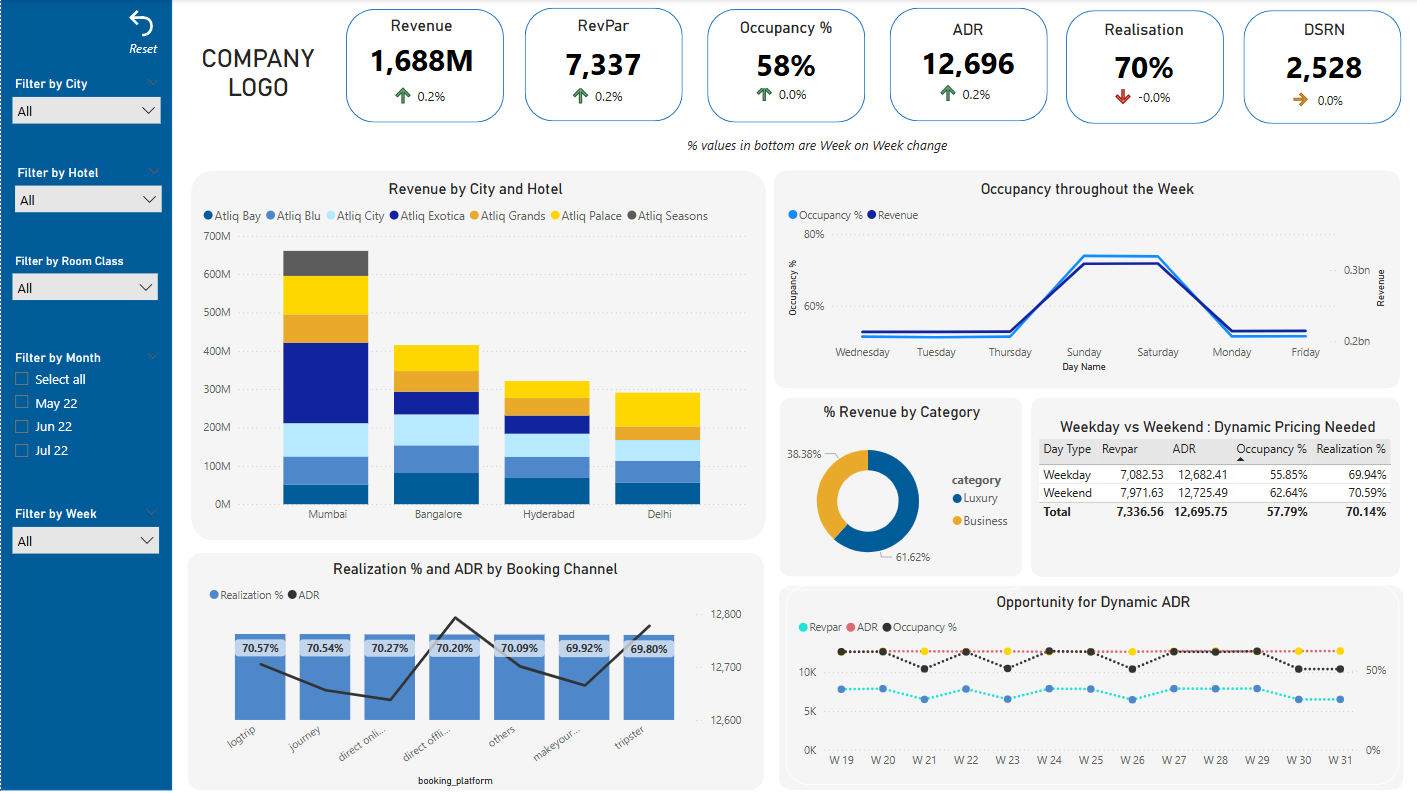

The dashboard page shown, as its layout file describes it:
{"tool":"powerbi","page":{"name":"Page 2","canvas":[1600,900],"ordinal":1},"visuals":[{"type":"tableEx","fields":{"Values":["Measure.DSRN WoW change %"]},"box":[1446,78,88.7,62.7],"z":0},{"type":"tableEx","fields":{"Values":["Measure.Realization WoW change %"]},"box":[1244.4,73.8,104.9,62.3],"z":1000},{"type":"tableEx","fields":{"Values":["Measure.Occupancy WoW change %"]},"box":[838,74,108,74],"z":2000},{"type":"tableEx","fields":{"Values":["Measure.ADR WoW change %"]},"box":[1046.1,68.9,90.2,63.9],"z":3000},{"type":"shape","box":[1161.6,449.8,416,202],"z":4000},{"type":"shape","box":[877.4,449.4,273.6,201.8],"z":5000},{"type":"shape","box":[875.9,660.3,704.7,230.8],"z":6000},{"type":"shape","box":[871.3,192.6,706.2,246.1],"z":7000},{"type":"shape","box":[210,624,650,268],"z":8000},{"type":"shape","box":[214,192.6,648.1,417.3],"z":9000},{"type":"tableEx","fields":{"Values":["Measure.Revpar WoW change %"]},"box":[632.1,72.2,95.1,77],"z":10000},{"type":"tableEx","fields":{"Values":["Measure.ADR WoW change %"]},"box":[432.2,72.2,90.2,63.9],"z":11000},{"type":"card","title":"Revenue","fields":{"Values":["Measure.Revenue"]},"box":[358,20,232,72],"z":12000},{"type":"card","title":"RevPar","fields":{"Values":["Measure.Revpar"]},"box":[610.1,20.2,137.6,81],"z":13000},{"type":"card","title":"DSRN","fields":{"Values":["Measure.DSRN"]},"box":[1429.5,24.6,123,78.7],"z":14000},{"type":"card","title":"Occupancy %","fields":{"Values":["Measure.Occupancy %"]},"box":[822.5,21.6,124,78.9],"z":15000},{"type":"card","title":"Realisation","fields":{"Values":["Measure.Realization %"]},"box":[1229.1,23.4,119.2,78],"z":16000},{"type":"card","title":"ADR","fields":{"Values":["Measure.ADR"]},"box":[1020.2,23.3,139.3,68.9],"z":17000},{"type":"shape","box":[0,0,193,891.8],"z":18000},{"type":"slicer","fields":{"Values":["dim_hotels lookup.city"]},"box":[3.3,81.3,186.7,66.7],"z":19000},{"type":"slicer","fields":{"Values":["dim_hotels lookup.property_name"]},"box":[5,181.3,185,66.7],"z":20000},{"type":"slicer","fields":{"Values":["dim_rooms lookup.room_class"]},"box":[3.3,283.6,183.6,65.6],"z":21000},{"type":"lineStackedColumnComboChart","title":"Realization % and ADR by Booking Channel","fields":{"Category":["fact_bookings.booking_platform"],"Y":["Measure.Realization %"],"Y2":["Measure.ADR"]},"box":[230,632.5,610,260],"z":22000},{"type":"lineChart","title":"Opportunity for Dynamic ADR","fields":{"Category":["dim_date lookup.mmm yy.Variation.Date Hierarchy.Month","dim_date lookup.week no"],"Y":["Measure.Revpar","Measure.ADR"],"Y2":["Measure.Occupancy %"]},"box":[885,660.3,690.9,224.7],"z":23000},{"type":"tableEx","title":"Weekday vs Weekend : Dynamic Pricing Needed","fields":{"Values":["dim_date lookup.day_type","Measure.Revpar","Measure.ADR","Measure.Occupancy %","Measure.Realization %"]},"box":[1163.3,471.7,415,156.7],"z":24000},{"type":"slicer","fields":{"Values":["dim_date lookup.mmm yy"]},"box":[3.3,389.7,186.7,158.3],"z":25000},{"type":"slicer","fields":{"Values":["dim_date lookup.week no"]},"box":[3.3,566.3,185,66.7],"z":26000},{"type":"columnChart","title":"Revenue by City and Hotel","fields":{"Category":["dim_hotels lookup.city"],"Y":["Measure.Revenue"],"Series":["dim_hotels lookup.property_name"]},"box":[223,204.9,624.6,395.1],"z":27000},{"type":"lineChart","title":"Occupancy throughout the Week","fields":{"Category":["dim_date lookup.Day Name"],"Y":["Measure.Occupancy %"],"Y2":["Measure.Revenue"]},"box":[882,204.8,684.8,221.6],"z":28000},{"type":"donutChart","title":"% Revenue by Category","fields":{"Category":["dim_hotels lookup.category"],"Y":["Measure.Revenue"]},"box":[869.7,446.3,290.4,220.1],"z":29000},{"type":"actionButton","box":[138.3,6.7,100,40],"z":30000},{"type":"shape","box":[388.8,11.7,178,128],"z":31000},{"type":"textbox","box":[768,150,442,50],"z":32000},{"type":"shape","box":[589.8,10.4,178,128],"z":33000},{"type":"shape","box":[795.5,10.7,178,128],"z":34000},{"type":"shape","box":[1001.9,10.4,178,128],"z":35000},{"type":"shape","box":[1199.8,12,178,128],"z":36000},{"type":"shape","box":[1400,13.3,178,128],"z":37000},{"type":"textbox","box":[139.1,41.3,110.1,33.6],"z":38000},{"type":"textbox","box":[213.8,44.8,151.7,127.6],"z":39000}]}

Visuals, with their boxes in screenshot pixels (x1, y1, x2, y2), scaled from the page's 1600x900 canvas onto the 1417x793 screenshot:
tableEx - Measure.DSRN WoW change %: region(1281, 69, 1359, 124)
tableEx - Measure.Realization WoW change %: region(1102, 65, 1195, 120)
tableEx - Measure.Occupancy WoW change %: region(742, 65, 838, 130)
tableEx - Measure.ADR WoW change %: region(926, 61, 1006, 117)
shape: region(1029, 396, 1397, 574)
shape: region(777, 396, 1019, 574)
shape: region(776, 582, 1400, 785)
shape: region(772, 170, 1397, 387)
shape: region(186, 550, 762, 786)
shape: region(190, 170, 763, 537)
tableEx - Measure.Revpar WoW change %: region(560, 64, 644, 131)
tableEx - Measure.ADR WoW change %: region(383, 64, 463, 120)
"Revenue" card: region(317, 18, 523, 81)
"RevPar" card: region(540, 18, 662, 89)
"DSRN" card: region(1266, 22, 1375, 91)
"Occupancy %" card: region(728, 19, 838, 89)
"Realisation" card: region(1089, 21, 1194, 89)
"ADR" card: region(904, 21, 1027, 81)
shape: region(0, 0, 171, 786)
slicer - dim_hotels lookup.city: region(3, 72, 168, 130)
slicer - dim_hotels lookup.property_name: region(4, 160, 168, 219)
slicer - dim_rooms lookup.room_class: region(3, 250, 166, 308)
"Realization % and ADR by Booking Channel" lineStackedColumnComboChart: region(204, 557, 744, 786)
"Opportunity for Dynamic ADR" lineChart: region(784, 582, 1396, 780)
"Weekday vs Weekend : Dynamic Pricing Needed" tableEx: region(1030, 416, 1398, 554)
slicer - dim_date lookup.mmm yy: region(3, 343, 168, 483)
slicer - dim_date lookup.week no: region(3, 499, 167, 558)
"Revenue by City and Hotel" columnChart: region(197, 181, 751, 529)
"Occupancy throughout the Week" lineChart: region(781, 180, 1388, 376)
"% Revenue by Category" donutChart: region(770, 393, 1027, 587)
actionButton: region(122, 6, 211, 41)
shape: region(344, 10, 502, 123)
textbox: region(680, 132, 1072, 176)
shape: region(522, 9, 680, 122)
shape: region(705, 9, 862, 122)
shape: region(887, 9, 1045, 122)
shape: region(1063, 11, 1220, 123)
shape: region(1240, 12, 1398, 125)
textbox: region(123, 36, 221, 66)
textbox: region(189, 39, 324, 152)
